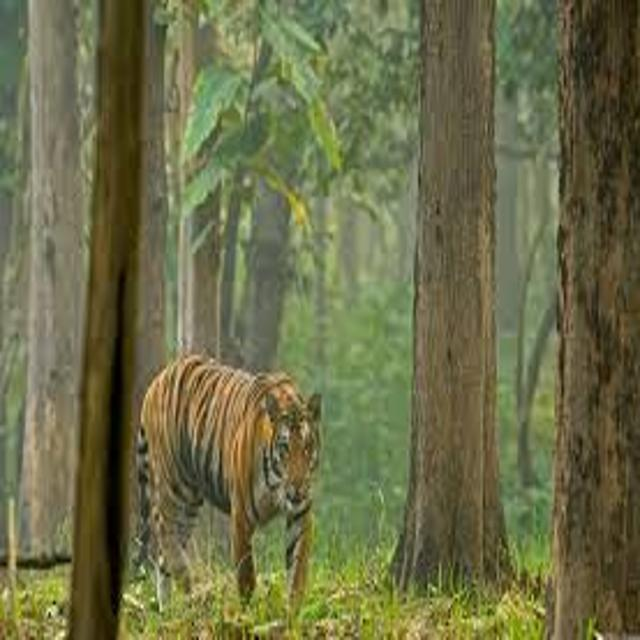Tiger: (117, 342, 348, 618)
